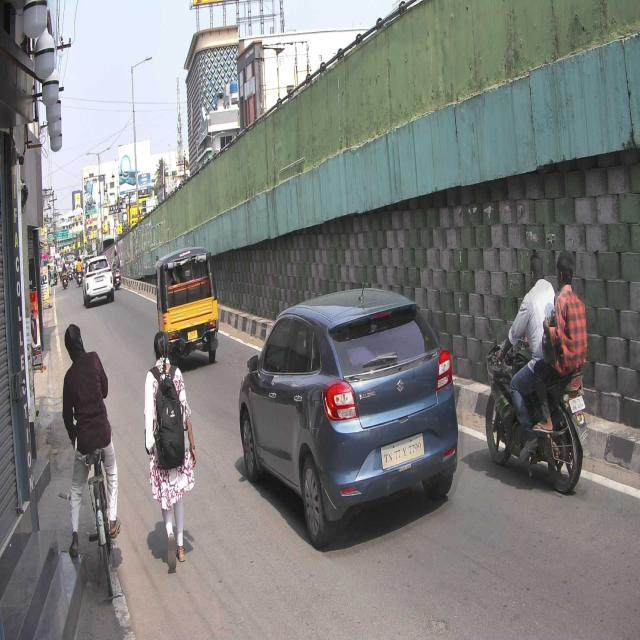double_rider: (485, 247, 590, 493)
